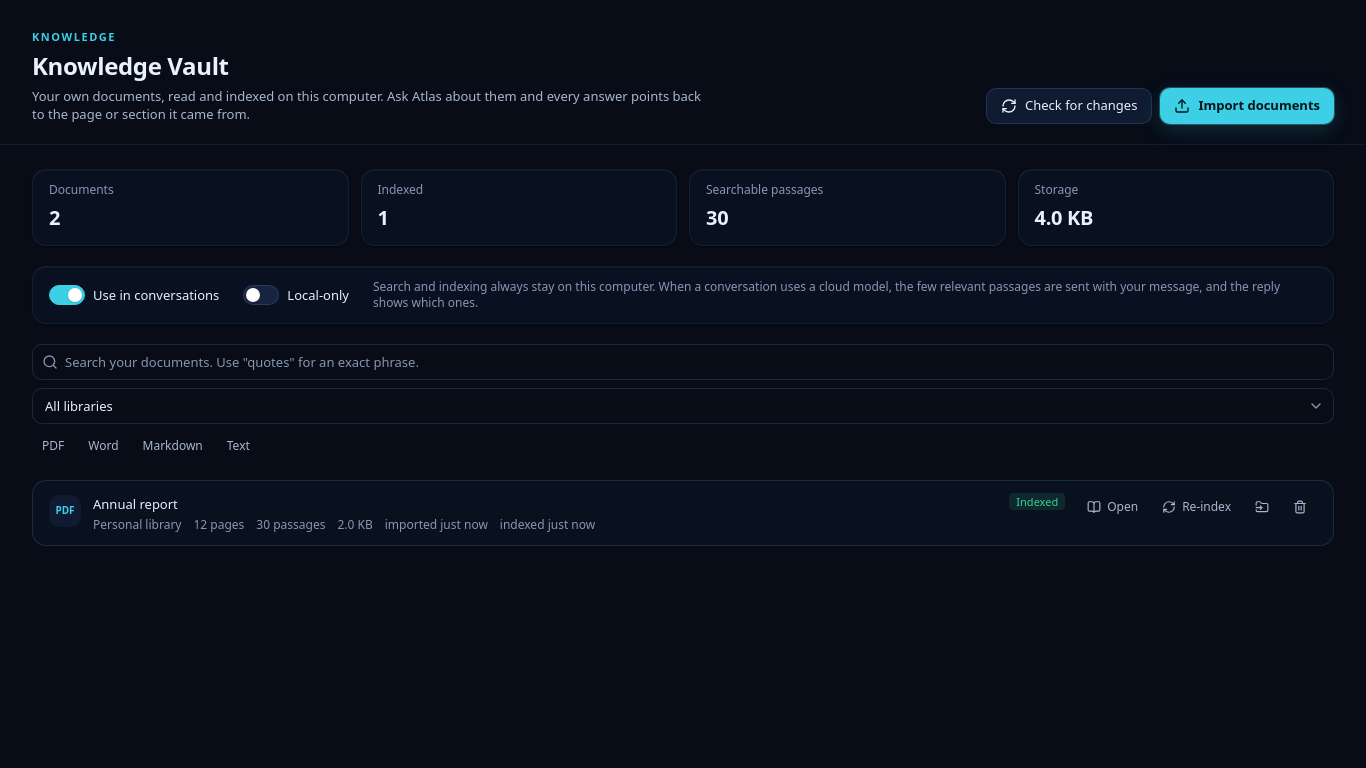
Test: Knowledge Vault › asks before removing, and says the original file is kept
Later steps or results of the test are not shown.
Expected: the button "Annual report" is shown, [93,495,178,514]
Click the button named "Remove Annual report". click: (1300, 507)
box: [1283,493,1317,521]
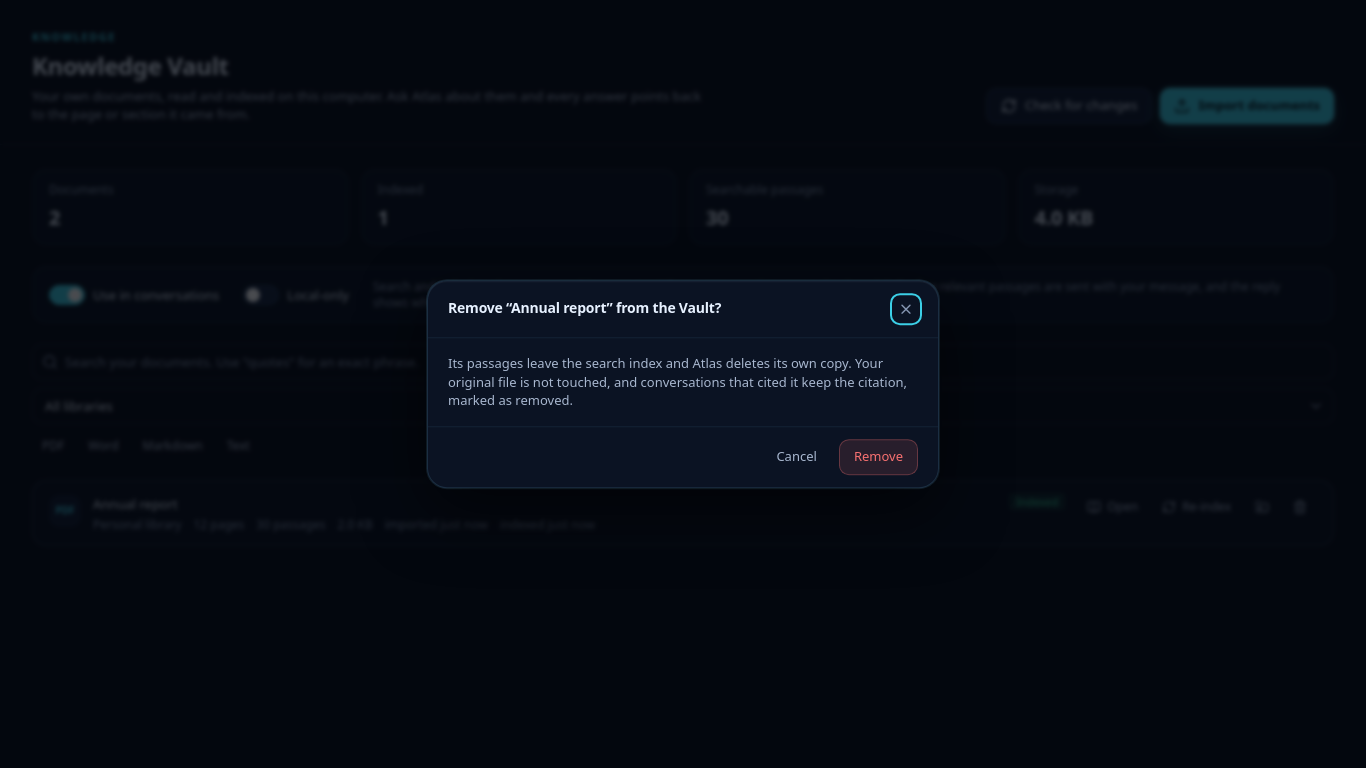
Expected: the text "Your original file is not touched" is shown, [448,354,907,409]
